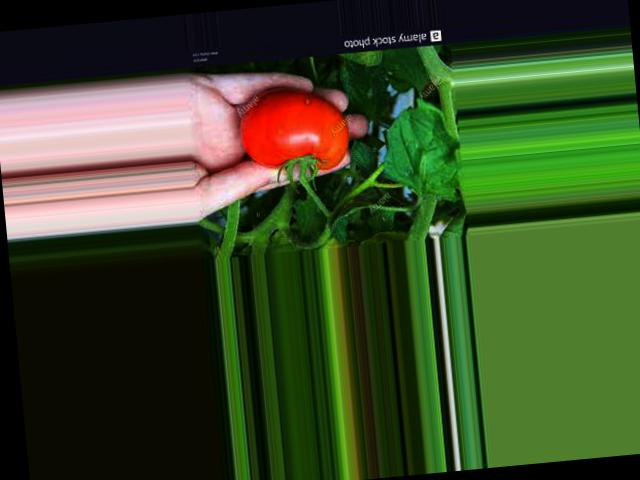tomato: (235, 85, 351, 177)
